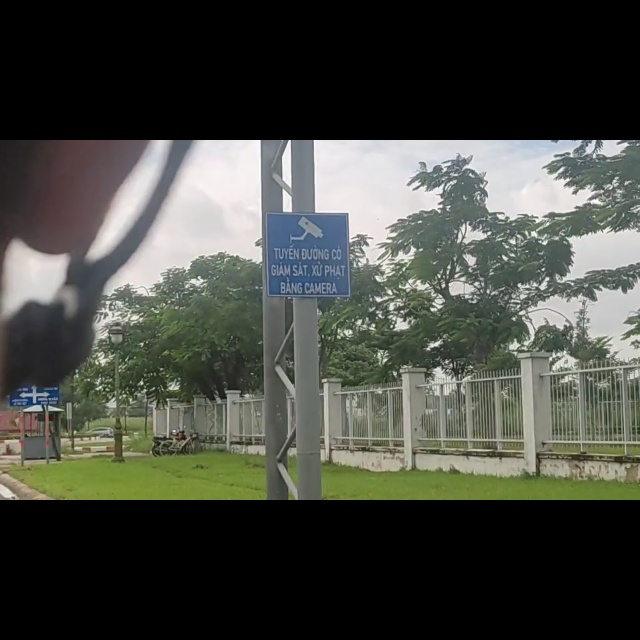bien_chi_dan: (264, 123, 357, 286)
